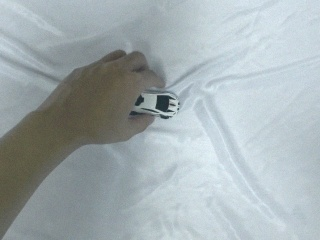toy_car: (131, 89, 180, 119)
